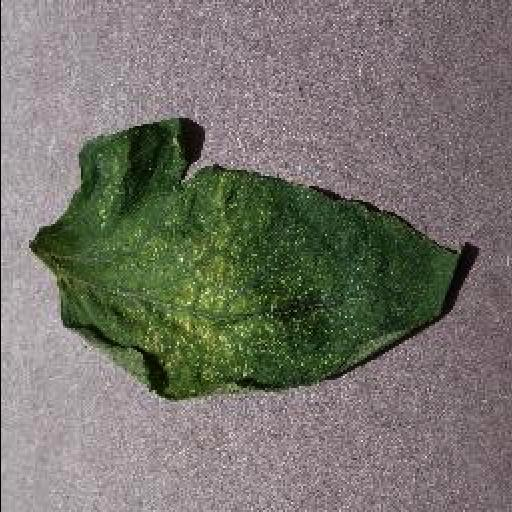disease_tomato: (26, 121, 466, 399)
